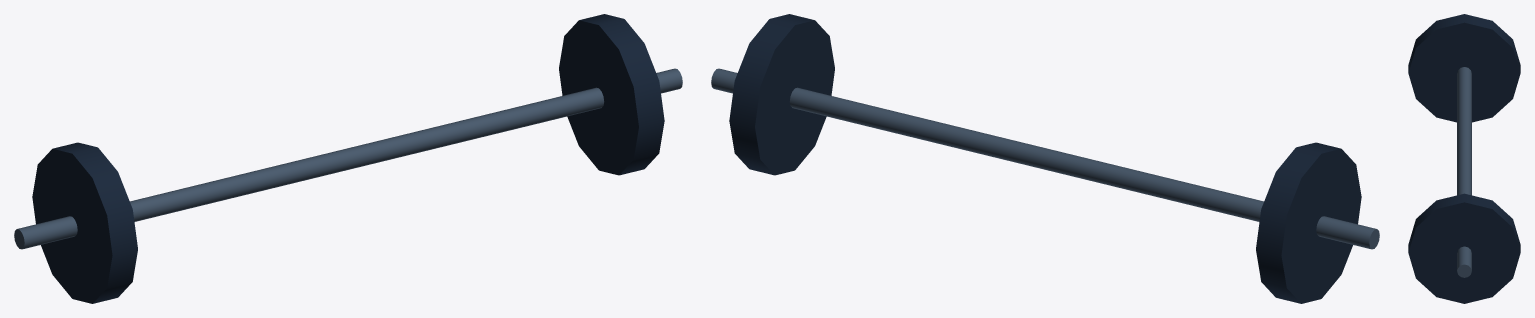
File: deadlift.glb
3 renders of one model, left to right at view 1: azimuth 30°, elevation 25°; view 2: azimuth 150°, elevation 25°; view 3: azimuth 270°, elevation 25°, orthographic. The views are drawn at different scales.
Parts seen in each view (by area): view 1: barbell_plate (×2), barbell; view 2: barbell_plate (×2), barbell; view 3: barbell_plate (×2), barbell.
Boxes of the visible parts, x1,y1,x2,y2 form: barbell_plate (×2): [32, 14, 664, 303]; barbell: [14, 68, 682, 249]; barbell_plate (×2): [729, 14, 1361, 303]; barbell: [711, 68, 1379, 249]; barbell_plate (×2): [1408, 14, 1520, 303]; barbell: [1457, 67, 1471, 277].
Size of the model in its own units: 1.8 by 0.38 by 0.38.
